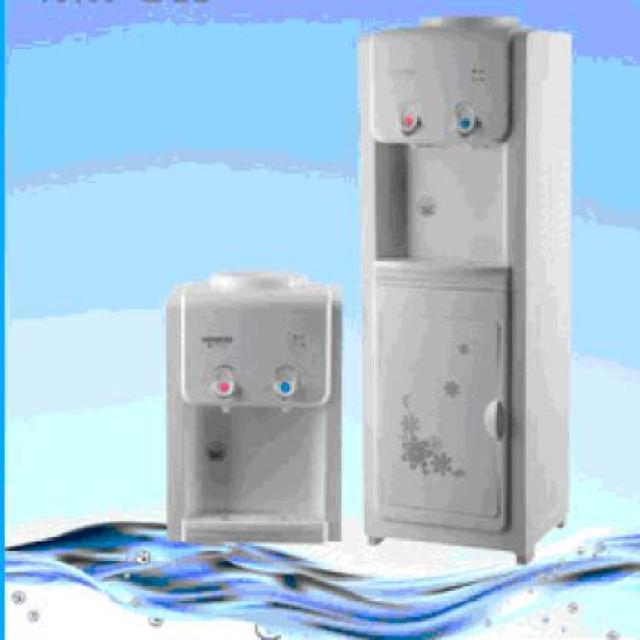cooler: (357, 12, 572, 562), (162, 264, 346, 548)
